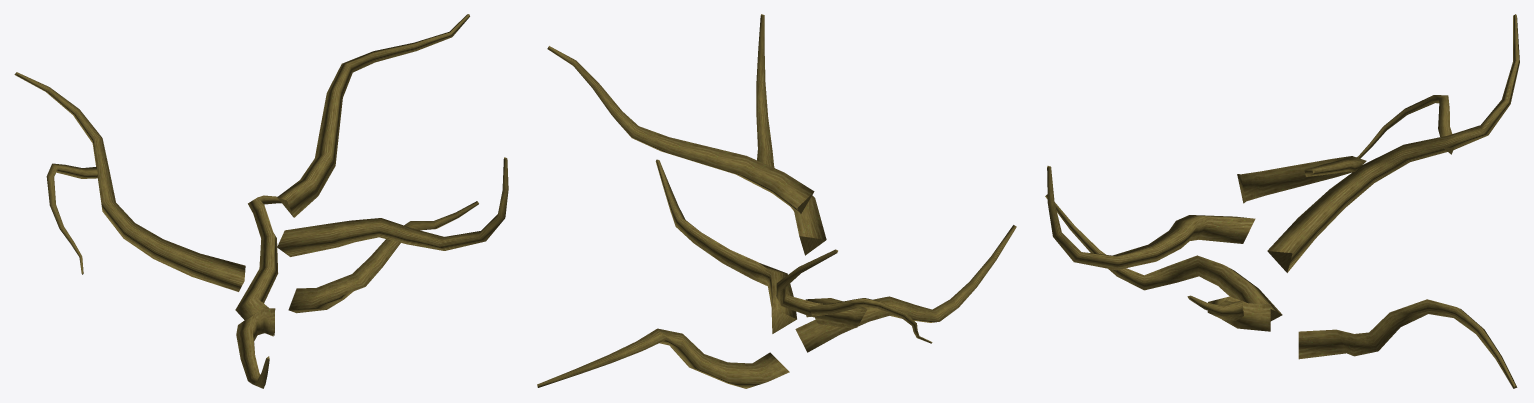
Rendered from INST_TOPTREE_BRANCHES.obj.
The picture shows the model from 3 angles, left to right: view 1: azimuth 30°, elevation 25°; view 2: azimuth 150°, elevation 25°; view 3: azimuth 270°, elevation 25°; orthographic projection. The views are drawn at different scales.
Visible parts, largest first — view 1: _PlaySurface107, _PlaySurface109, _PlaySurface112, _PlaySurface111, _PlaySurface106, _PlaySurface108, _PlaySurface110; view 2: _PlaySurface112, _PlaySurface106, _PlaySurface111, _PlaySurface108, _PlaySurface109, _PlaySurface107, _PlaySurface110; view 3: _PlaySurface107, _PlaySurface109, _PlaySurface106, _PlaySurface108, _PlaySurface112, _PlaySurface111, _PlaySurface110.
Boxes of the visible parts, bbox=[...] form: _PlaySurface107: bbox=[14, 72, 245, 291]; _PlaySurface109: bbox=[277, 157, 508, 256]; _PlaySurface112: bbox=[277, 14, 469, 217]; _PlaySurface111: bbox=[288, 201, 478, 313]; _PlaySurface106: bbox=[235, 195, 281, 336]; _PlaySurface108: bbox=[236, 308, 275, 388]; _PlaySurface110: bbox=[46, 163, 97, 274]; _PlaySurface112: bbox=[547, 46, 814, 214]; _PlaySurface106: bbox=[537, 328, 789, 388]; _PlaySurface111: bbox=[655, 159, 796, 333]; _PlaySurface108: bbox=[795, 225, 1016, 352]; _PlaySurface109: bbox=[756, 14, 826, 255]; _PlaySurface107: bbox=[776, 249, 867, 328]; _PlaySurface110: bbox=[806, 298, 932, 343]; _PlaySurface107: bbox=[1267, 14, 1519, 272]; _PlaySurface109: bbox=[1047, 166, 1255, 270]; _PlaySurface106: bbox=[1298, 299, 1517, 388]; _PlaySurface108: bbox=[1045, 194, 1282, 321]; _PlaySurface112: bbox=[1237, 156, 1366, 203]; _PlaySurface111: bbox=[1187, 295, 1270, 331]; _PlaySurface110: bbox=[1356, 95, 1454, 158].
Bounding box in the file's own units: 1616 × 1093 × 1571.
